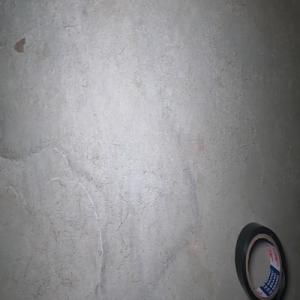Tape: (234, 222, 287, 300)
